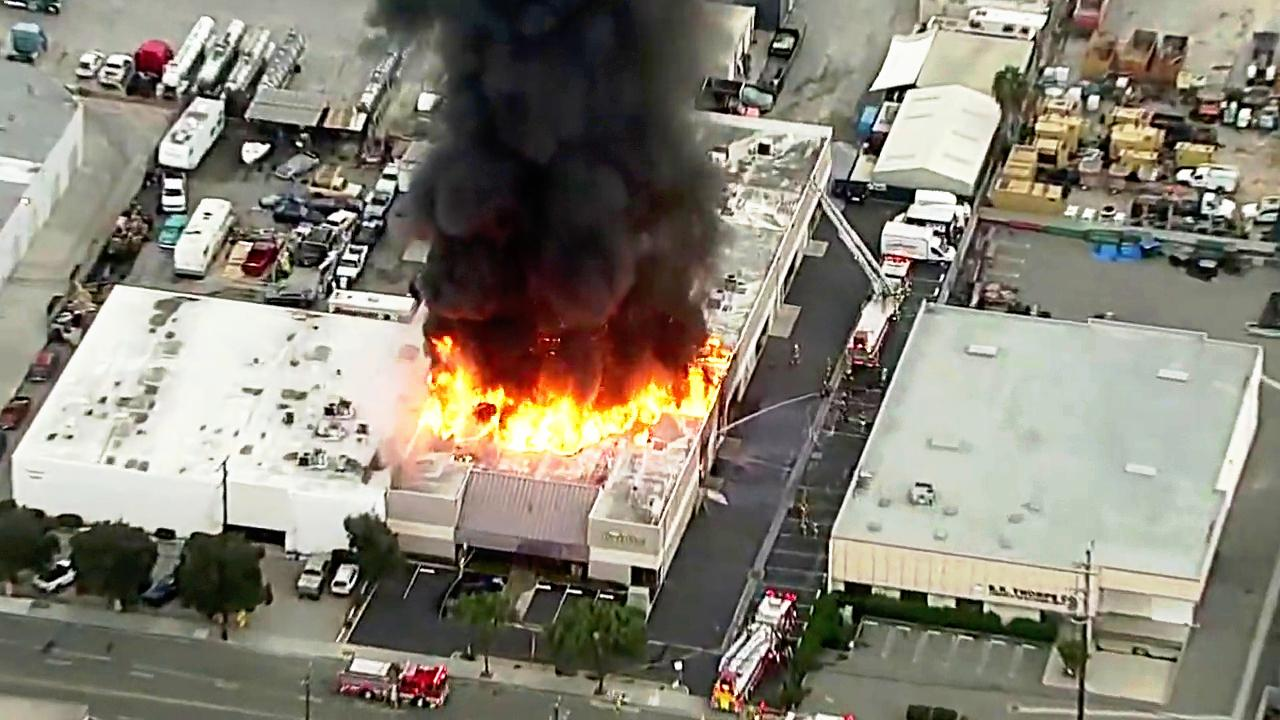fire: (419, 329, 511, 435), (590, 369, 697, 436), (503, 392, 592, 456)
smoke: (439, 7, 703, 316)
